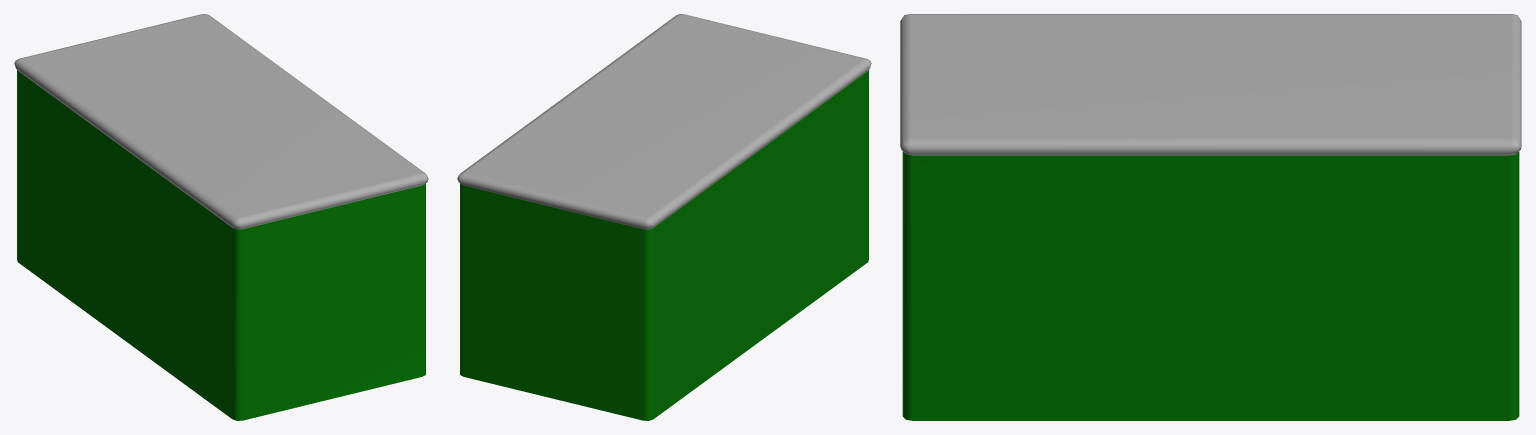
The model's file is Terreno_Medio.fbx.
3 views of the same model, side by side, from view 1: azimuth 30°, elevation 25°; view 2: azimuth 150°, elevation 25°; view 3: azimuth 270°, elevation 25° (orthographic). The views are drawn at different scales.
Parts seen in each view (by area): view 1: Terreno_Medio; view 2: Terreno_Medio; view 3: Terreno_Medio.
Boxes of the visible parts, <box> form: Terreno_Medio: <box>14,14,428,420</box>; Terreno_Medio: <box>457,14,871,420</box>; Terreno_Medio: <box>900,14,1521,420</box>.
Bounding box in the file's own units: 203 × 200 × 403.
